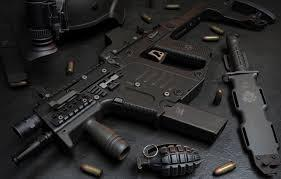Grenade: (134, 141, 201, 177)
Gun: (9, 0, 276, 166)
Knife: (221, 31, 280, 177)
